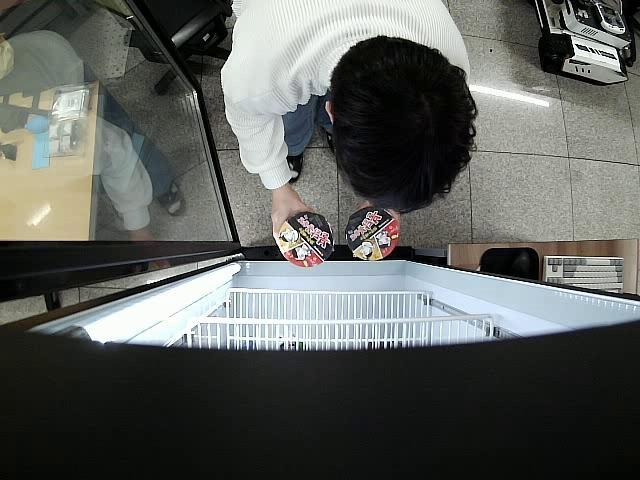07_buldak_L: (278, 213, 333, 269), (346, 208, 402, 262)
